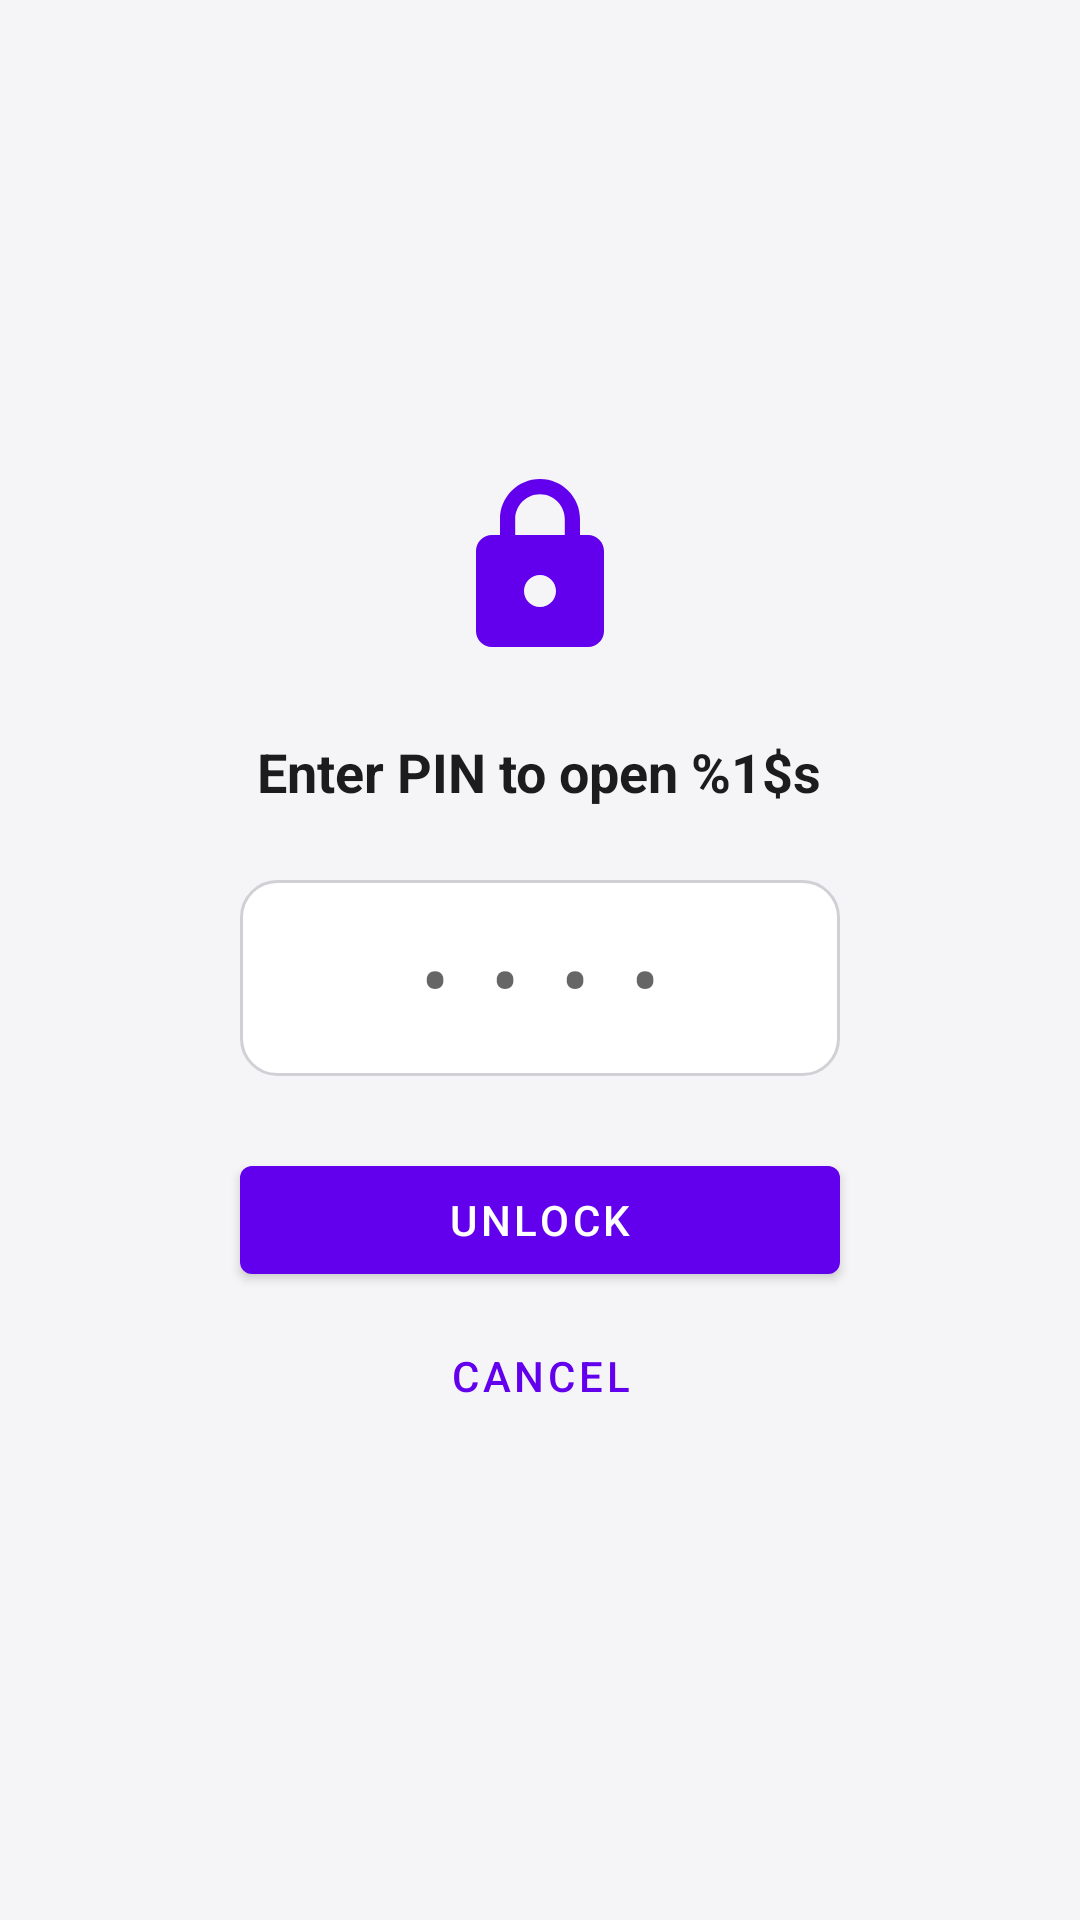

Locate icon controls on the screen. Image size 1080px×1920px, boxes as (x1, y1, x2, y2).
lock: (476, 479, 604, 647)
